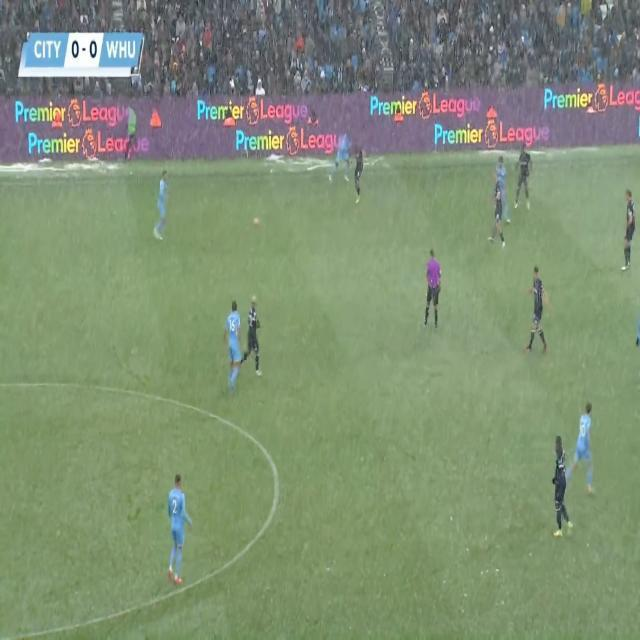ball: (248, 211, 266, 237)
player: (163, 455, 192, 593), (547, 430, 576, 543), (240, 291, 270, 383), (577, 394, 599, 503), (527, 262, 551, 355), (515, 139, 540, 227), (422, 243, 445, 338), (222, 297, 244, 393), (619, 180, 639, 285), (151, 162, 173, 250), (494, 151, 514, 229), (488, 169, 508, 243), (332, 132, 352, 190), (354, 137, 366, 208)
